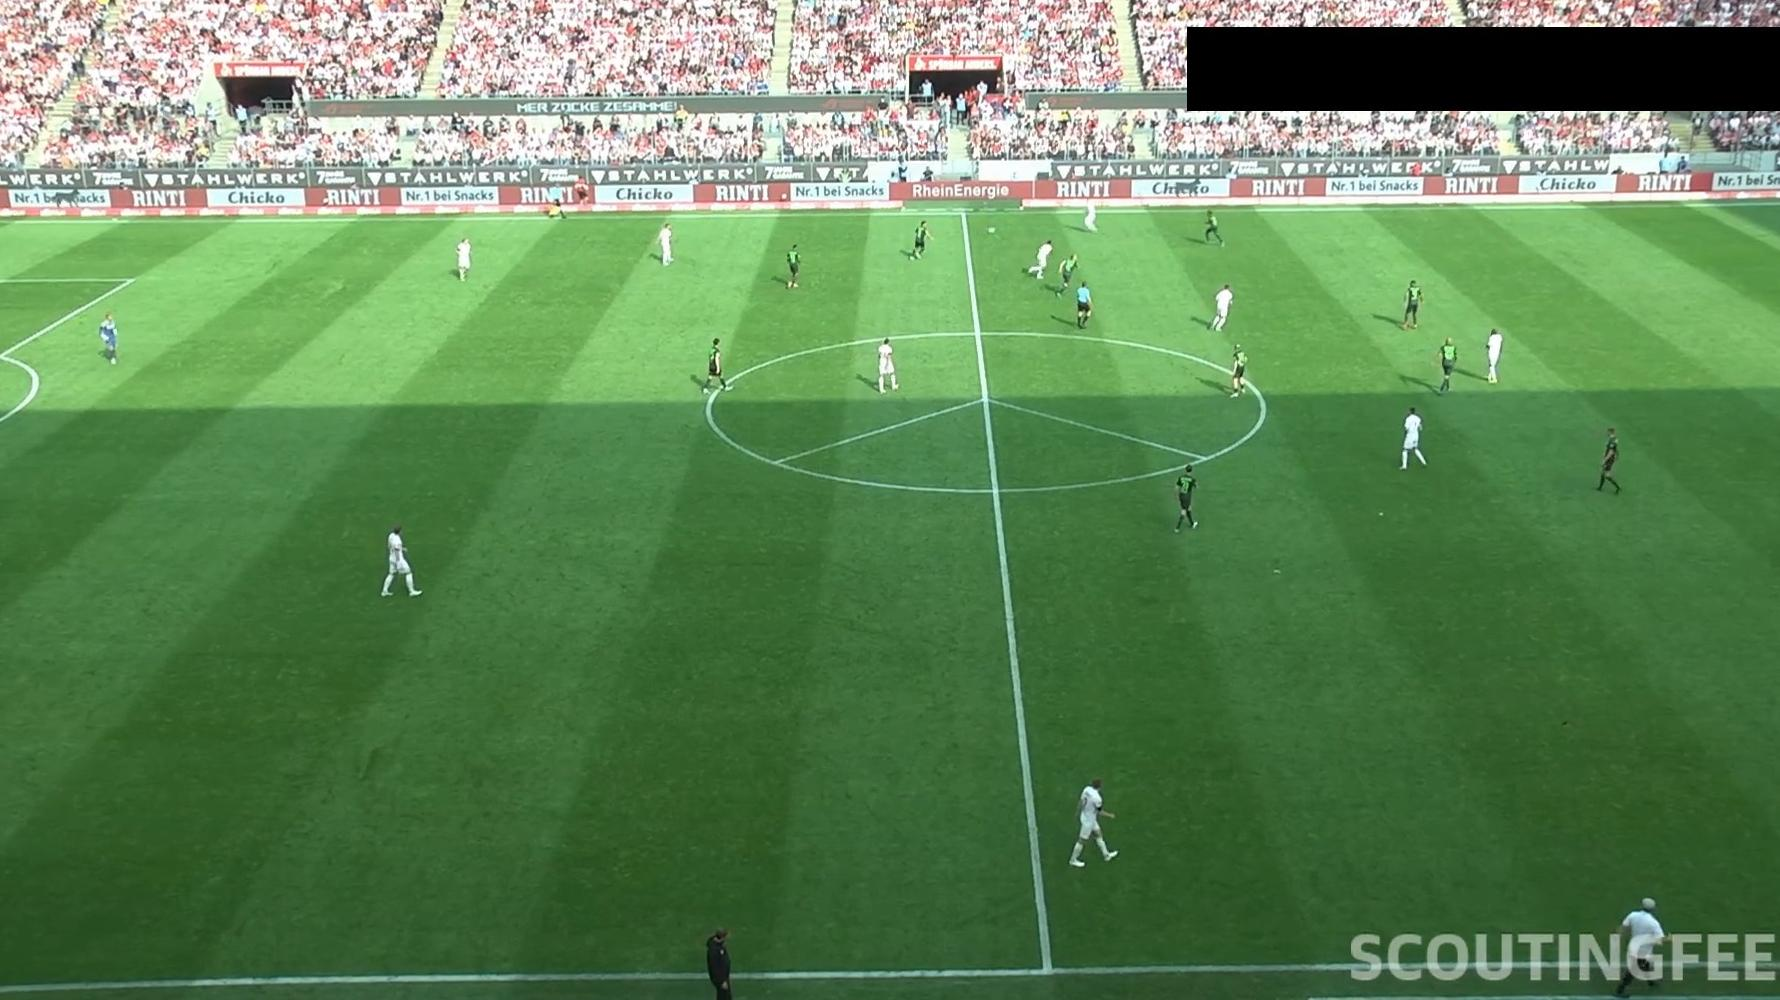ball: (988, 225, 996, 233)
